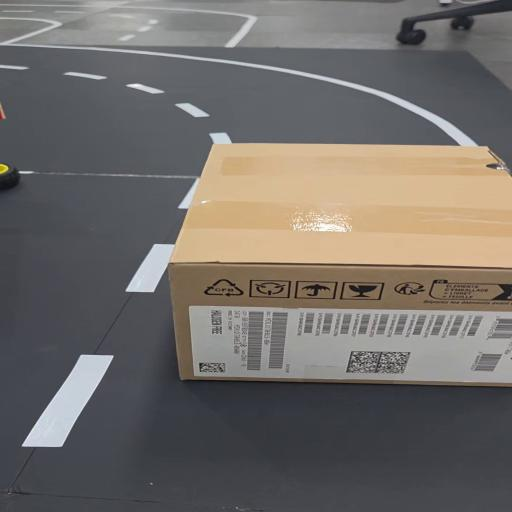Box: (180, 150, 512, 398)
